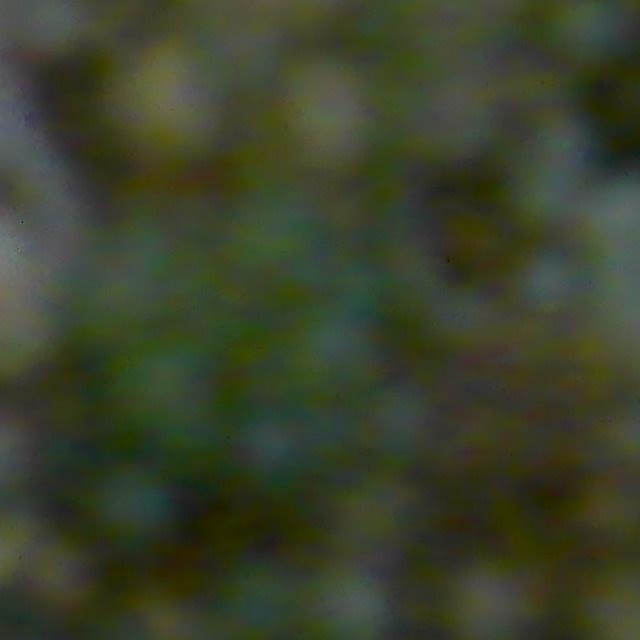SeaGrape: (273, 53, 383, 171), (442, 557, 547, 640), (91, 462, 178, 548), (221, 555, 305, 640), (307, 564, 398, 640), (545, 0, 640, 68), (508, 155, 585, 233), (22, 536, 98, 615), (363, 380, 436, 458), (512, 246, 586, 318), (580, 173, 640, 260), (530, 108, 596, 170)
